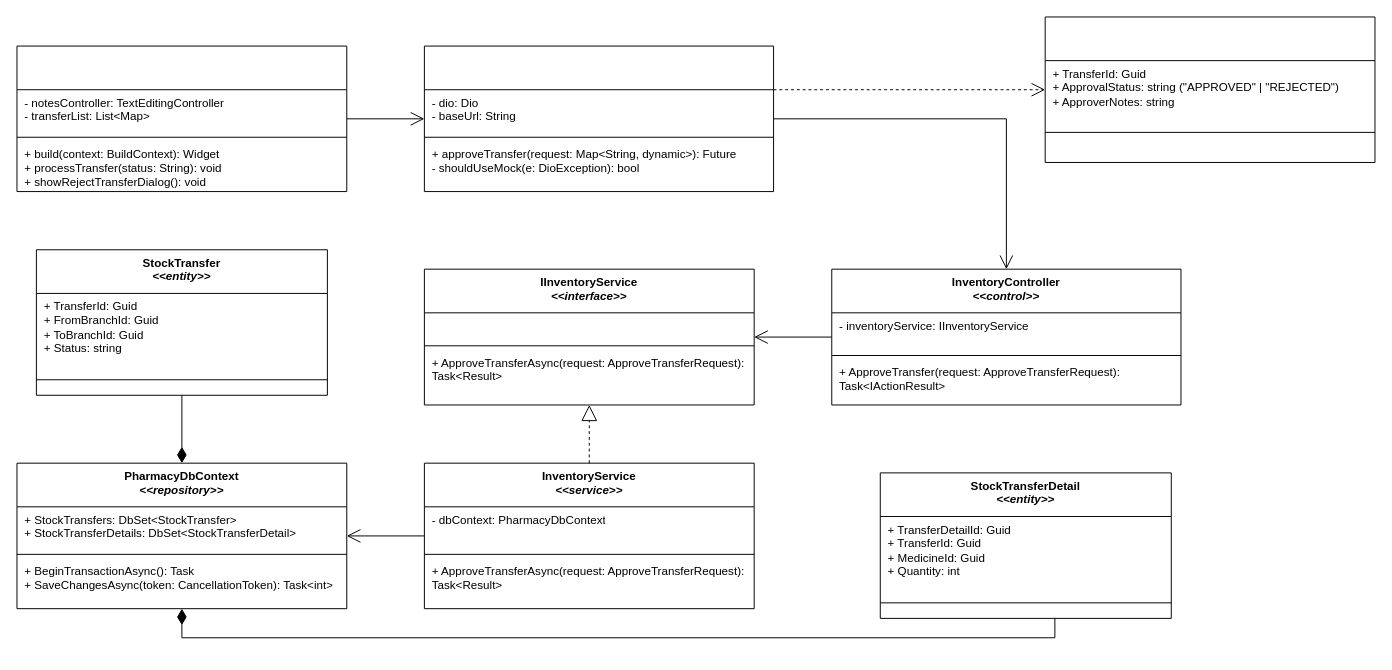
The diagram is 1392 pixels wide and 670 high, and some of its shapes have lost their labels. The shapes that lost their labels are listed below. From the top down, each one's box as (x1, y1, x2, y2) in pixels, then its label:
(1044, 16, 1375, 162): ApproveTransferRequest <<DTO>>
(16, 45, 347, 192): InternalTransferApprovalScreen <<boundary>>
(423, 45, 774, 192): InventoryApiClient <<control>>
